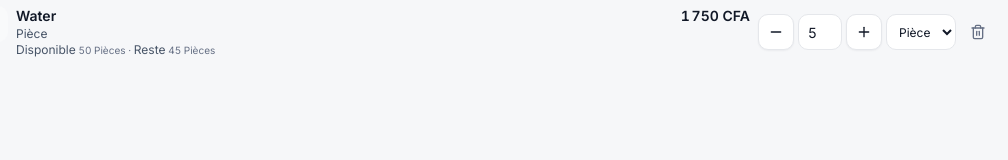
Test case: CartPanel › B7: negative qty shows invalide and keeps the previous value
Replace the text in the number field named "Quantité de Water" with "-2" at (820, 32), box [798,14,842,50]
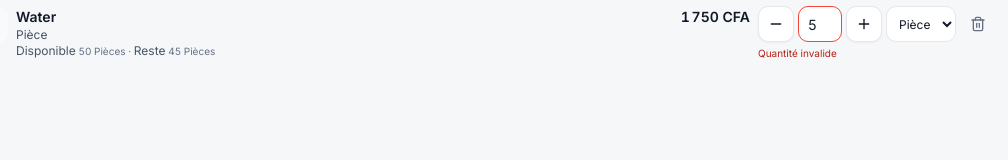
expect the text "Quantité invalide" is shown: met, box [758,47,837,59]
